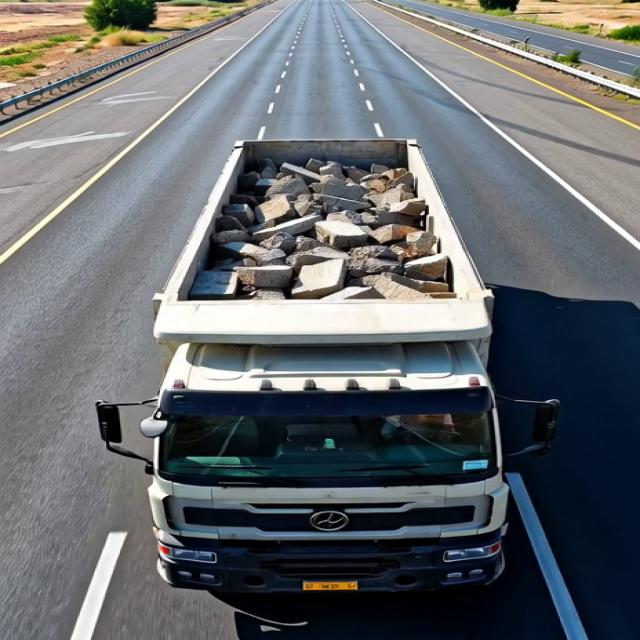trailer: (138, 136, 530, 336)
truck: (84, 118, 569, 590)
